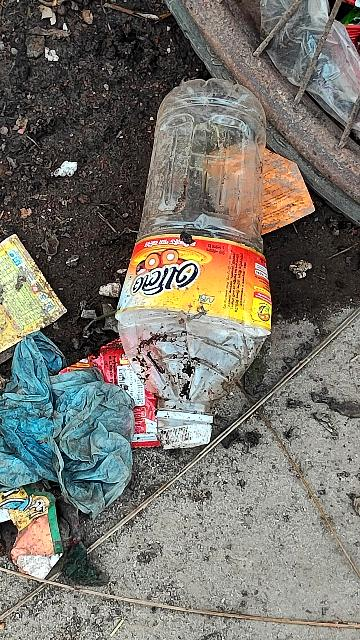bottle: (120, 72, 272, 452)
